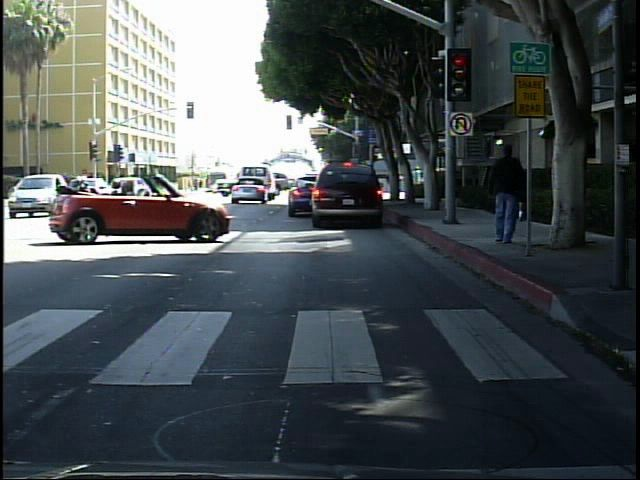person: (482, 134, 530, 249), (505, 148, 530, 231)
